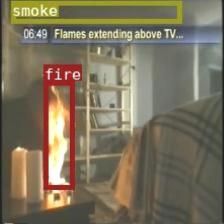fire: (43, 80, 74, 189)
smoke: (10, 0, 180, 22)
